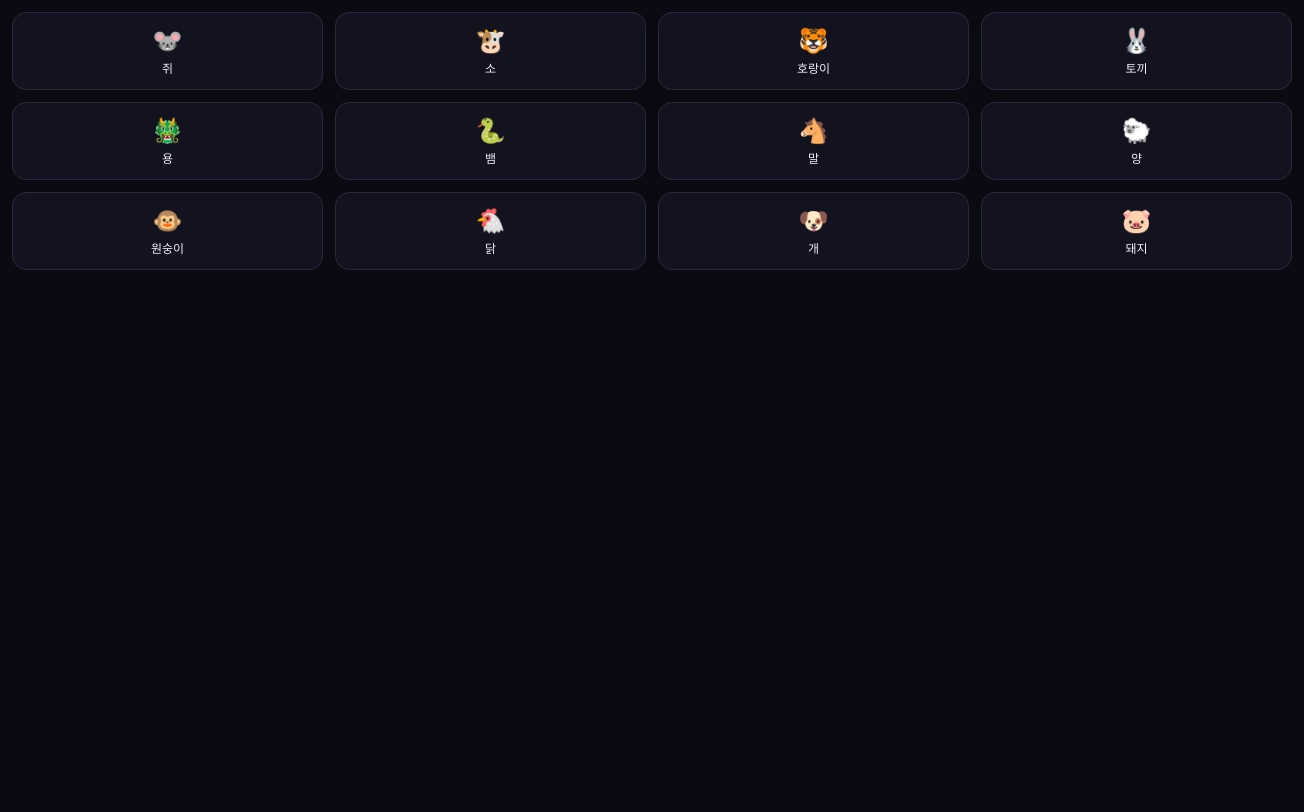
Scenario: ChineseZodiacSelector › 버튼 클릭 시 해당 띠 운세를 표시한다
Click the button "🐭 쥐". click: (168, 51)
box: x1=12 y1=12 x2=323 y2=90
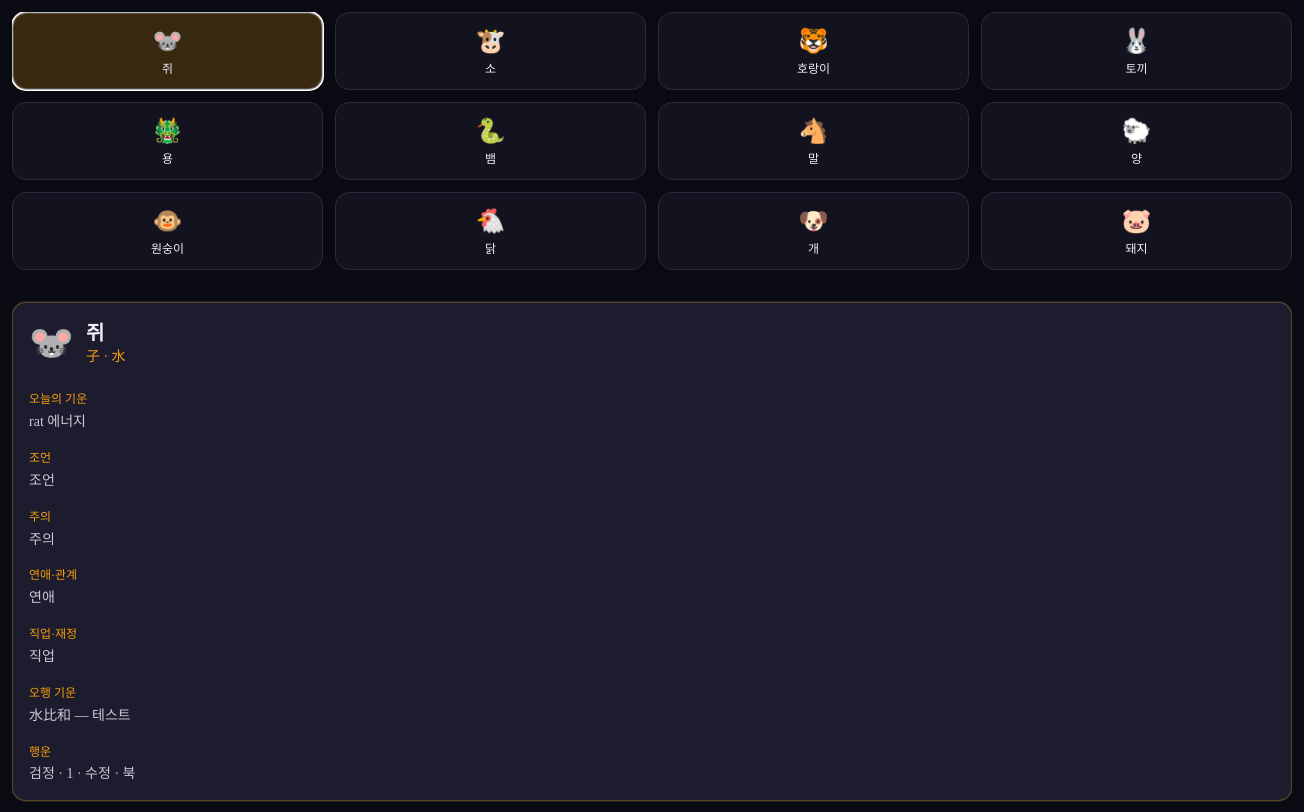
Expected: the text "rat 에너지" is shown, x1=29 y1=414 x2=86 y2=429
